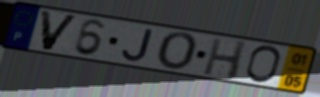6: (72, 18, 108, 58)
H: (201, 37, 250, 82)
J: (120, 28, 155, 63)
O: (155, 31, 201, 73), (243, 44, 283, 85)
V: (38, 8, 81, 52)
